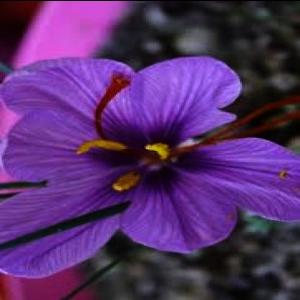Saffron: (0, 53, 300, 279)
